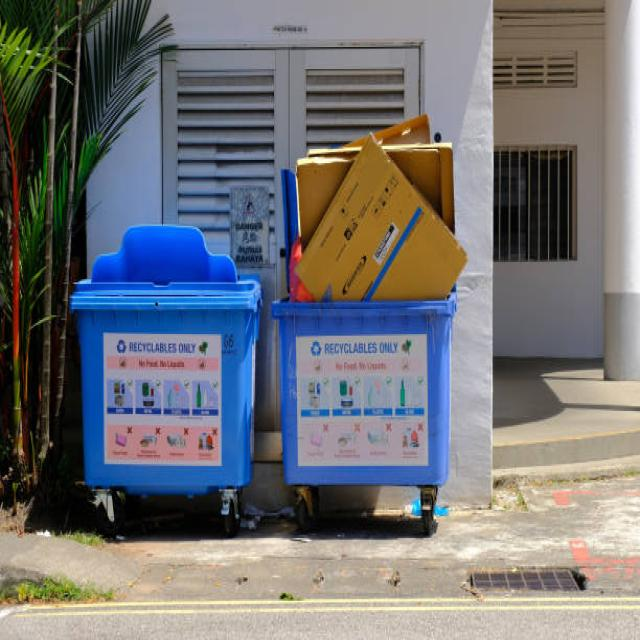bin_empty: (71, 226, 261, 534), (84, 218, 264, 528)
bin_full: (271, 114, 466, 533), (290, 118, 466, 524)
bulk_waste: (293, 118, 452, 312), (297, 139, 466, 301), (374, 114, 453, 231), (296, 138, 363, 245)
